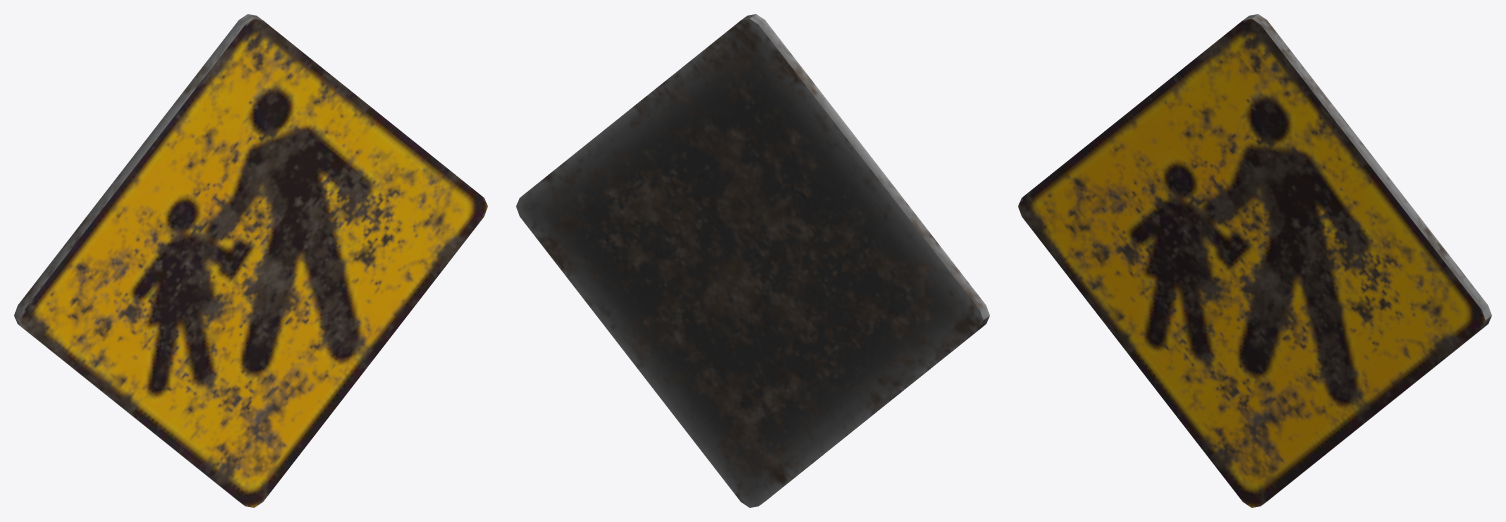
Rendered from Careful of children sign.fbx.
3 views of the same model, side by side, from view 1: azimuth 30°, elevation 25°; view 2: azimuth 150°, elevation 25°; view 3: azimuth 330°, elevation 25° (orthographic).
Visible parts, largest first — view 1: Cube.002; view 2: Cube.002; view 3: Cube.002.
Part boxes in pixels (x1,y1,x2,y2): Cube.002: (14, 14, 487, 507); Cube.002: (516, 14, 989, 507); Cube.002: (1018, 14, 1491, 507).
Size of the model in its own units: 54.78 by 54.78 by 1.31.
